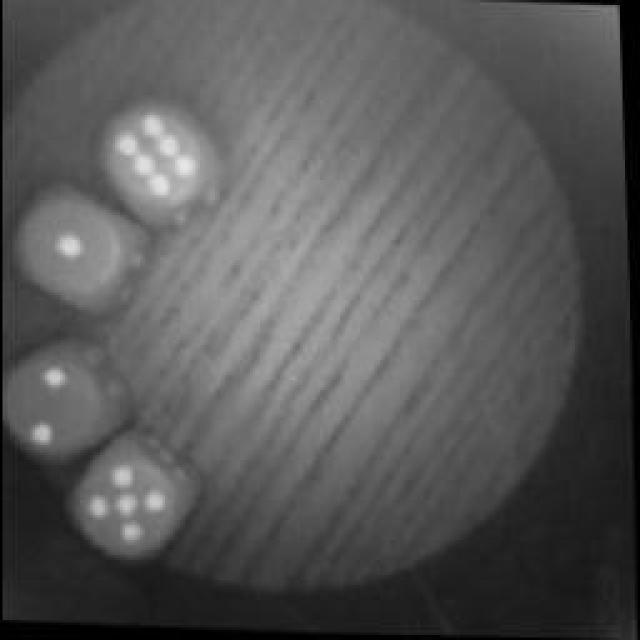dice_1: (13, 188, 148, 318)
dice_2: (0, 345, 122, 470)
dice_5: (60, 448, 195, 572)
dice_6: (96, 95, 226, 220)
